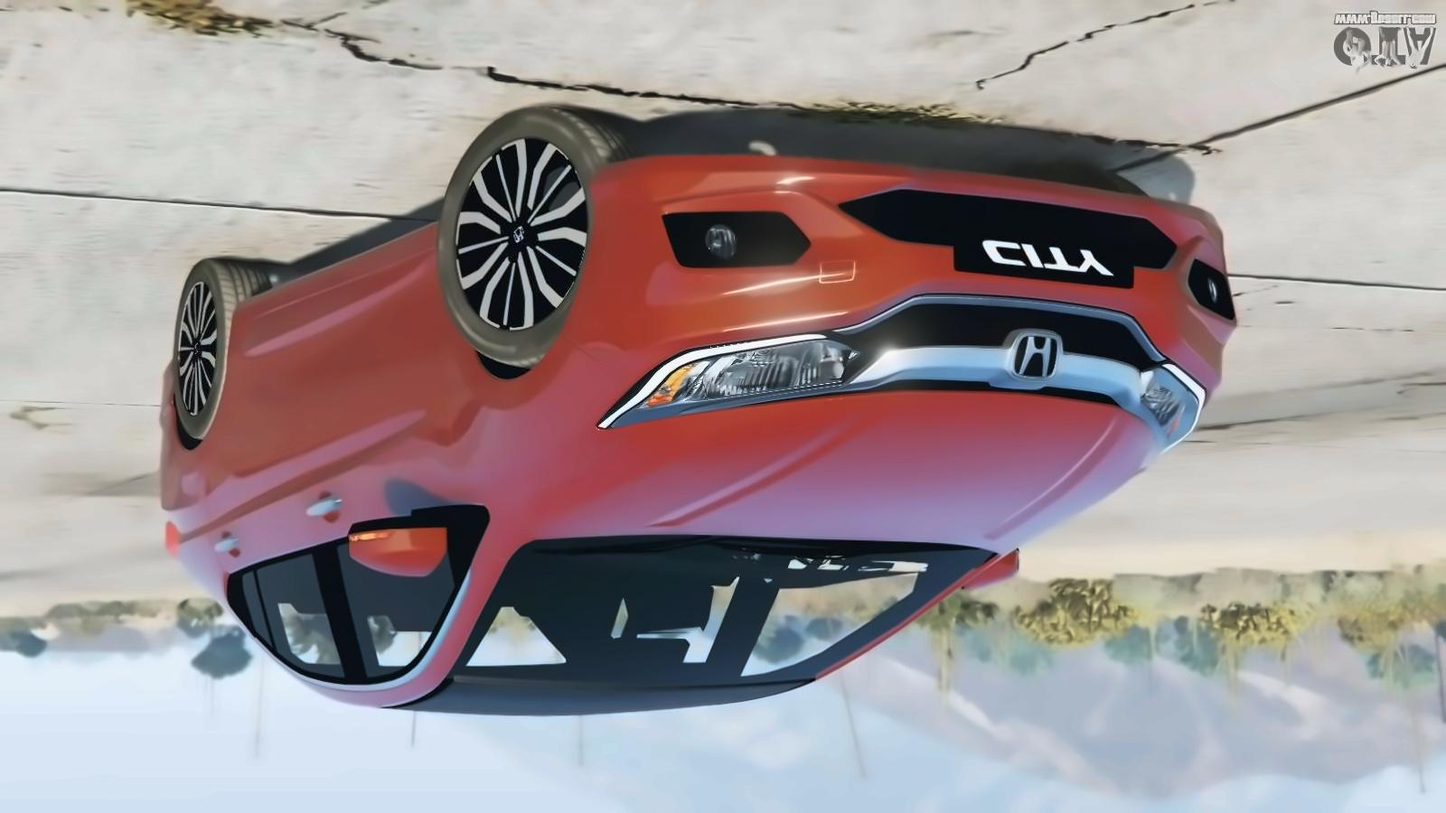Car hood: (536, 390, 1154, 555)
Front bumper: (582, 152, 1243, 389)
Headlight - -L-: (594, 329, 868, 429)
Headlight - -R-: (1135, 361, 1203, 461)
Passenger-s door - -F-L-: (279, 208, 501, 711)
Passenger-s door - -R-L-: (203, 240, 381, 710)
Side bumper - -L-: (220, 199, 444, 380)
Side mirror - -L-: (342, 501, 465, 579)
